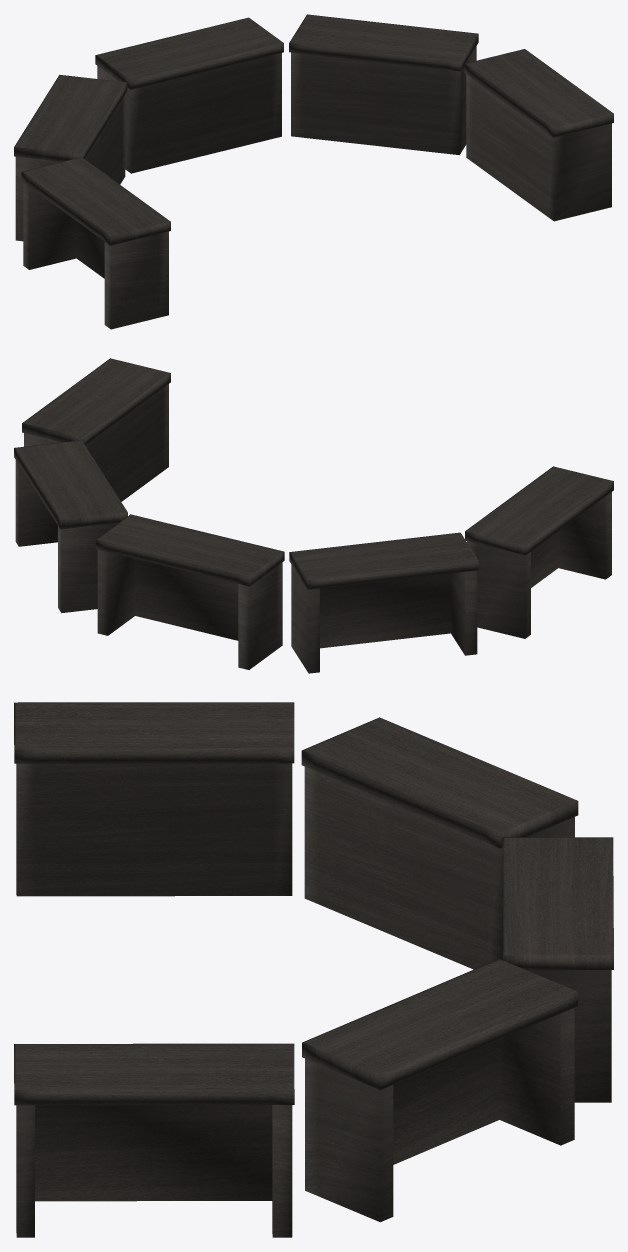
Rendered from Table.obj.
The picture shows the model from 3 angles, top to bottom: view 1: azimuth 30°, elevation 25°; view 2: azimuth 150°, elevation 25°; view 3: azimuth 270°, elevation 25°; orthographic projection. The views are drawn at different scales.
Parts seen in each view (by area): view 1: Box006, Box003, Box007, Box005, Box004; view 2: Box003, Box004, Box005, Box007, Box006; view 3: Box005, Box006, Box007, Box004, Box003.
Boxes of the visible parts, x1,y1,x2,y2 form: Box006: [289, 14, 478, 155]; Box003: [95, 17, 283, 173]; Box007: [464, 49, 613, 221]; Box005: [21, 157, 170, 329]; Box004: [14, 74, 127, 241]; Box003: [95, 514, 284, 669]; Box004: [289, 532, 478, 673]; Box005: [465, 466, 613, 638]; Box007: [22, 358, 170, 501]; Box006: [14, 440, 127, 613]; Box005: [14, 702, 294, 896]; Box006: [302, 959, 577, 1222]; Box007: [14, 1043, 294, 1237]; Box004: [301, 717, 578, 969]; Box003: [502, 837, 613, 1102].
Bounding box in the file's own units: 433 × 77 × 283.
1 material, 1 textured.
